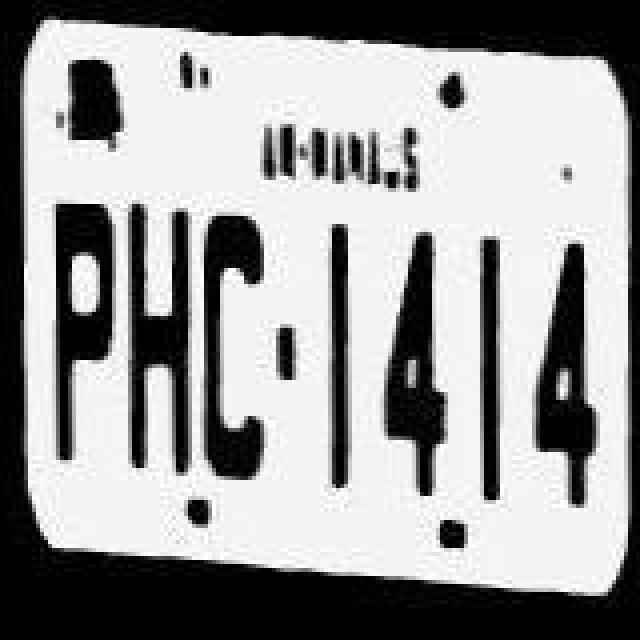1: (312, 226, 368, 494), (468, 236, 516, 532)
4: (526, 224, 610, 544), (380, 236, 460, 508)
C: (198, 198, 274, 482)
H: (114, 178, 198, 478)
P: (44, 166, 124, 482)
